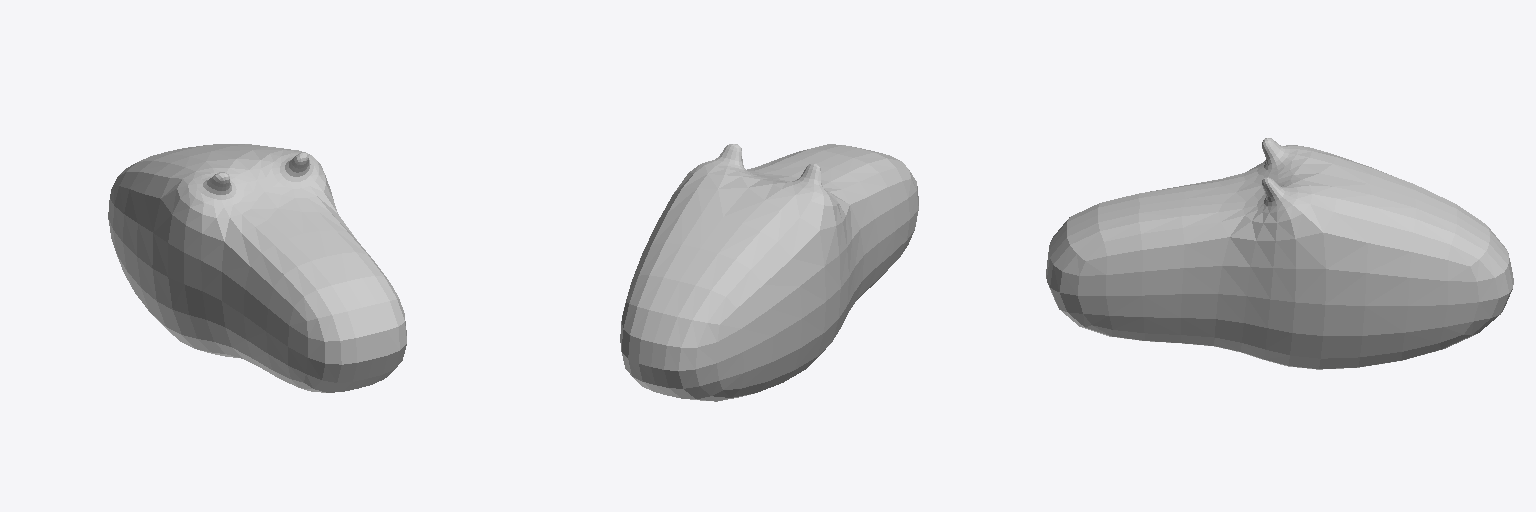
Rendered from CowHead.obj.
3 renders of one model, left to right at view 1: azimuth 30°, elevation 25°; view 2: azimuth 150°, elevation 25°; view 3: azimuth 270°, elevation 25°, orthographic.
Visible parts, largest first — view 1: Cube.002_Cube.019; view 2: Cube.002_Cube.019; view 3: Cube.002_Cube.019.
Part boxes in pixels (bbox=[...]): Cube.002_Cube.019: bbox=[108, 144, 406, 392]; Cube.002_Cube.019: bbox=[620, 144, 918, 401]; Cube.002_Cube.019: bbox=[1046, 138, 1513, 369].
Size of the model in its own units: 0.1111 by 0.1284 by 0.2782.